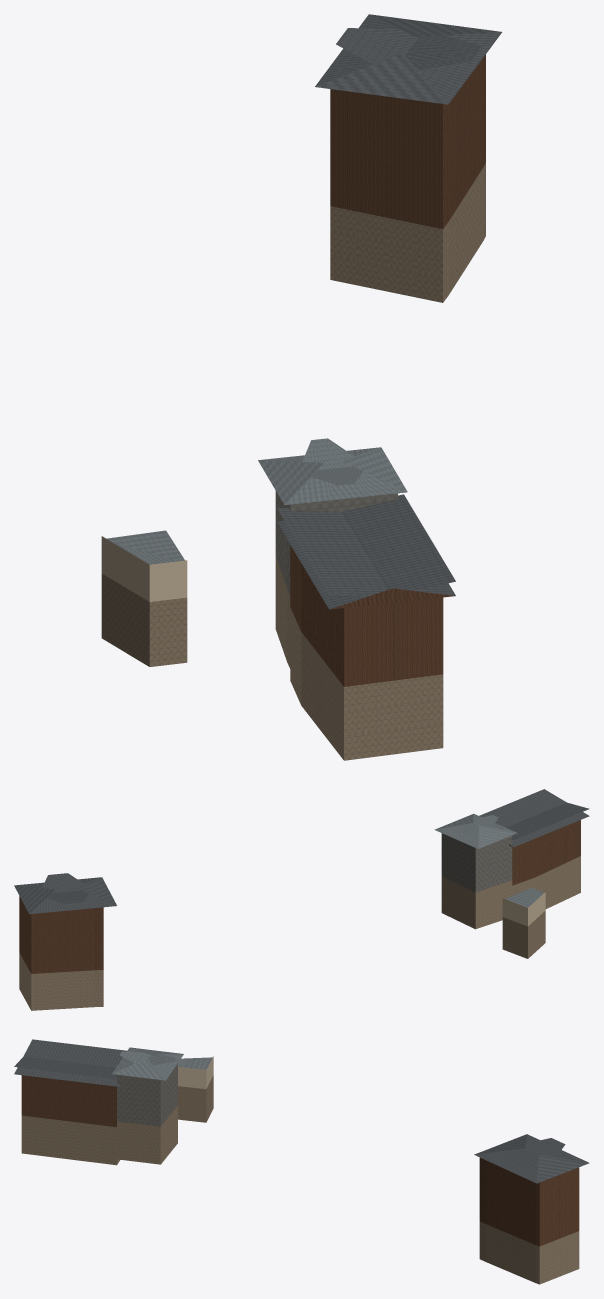
The model's file is bld_c28_-54_548.gltf.
The picture shows the model from 3 angles, top to bottom: view 1: azimuth 30°, elevation 25°; view 2: azimuth 150°, elevation 25°; view 3: azimuth 270°, elevation 25°; orthographic projection. The views are drawn at different scales.
Visible parts, largest first — view 1: bld_c28_-54_548; view 2: bld_c28_-54_548; view 3: bld_c28_-54_548.
Boxes of the visible parts, box(x1,y1,x2,y2) form: bld_c28_-54_548: box(101, 14, 501, 760); bld_c28_-54_548: box(14, 789, 589, 1010); bld_c28_-54_548: box(14, 1039, 589, 1284).
Size of the model in its own units: 51.7 by 15.8 by 70.03.
Materials: 8 (8 with a texture image).
